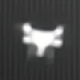plane: (17, 21, 66, 61)
